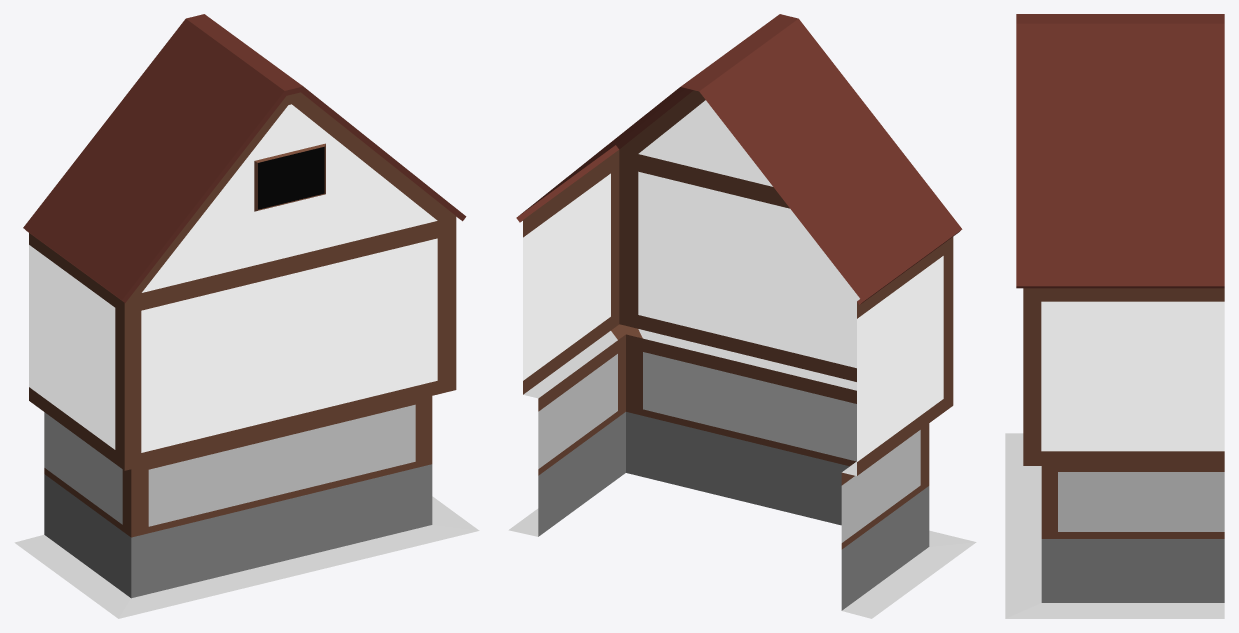
The model's file is FeudalHouse.glb.
3 views of the same model, side by side, from view 1: azimuth 30°, elevation 25°; view 2: azimuth 150°, elevation 25°; view 3: azimuth 270°, elevation 25° (orthographic). The views are drawn at different scales.
Visible parts, largest first — view 1: Plane, Cube; view 2: Plane; view 3: Plane.
Part boxes in pixels (left/top/right/bottom): Plane: left=14, top=14, right=479, bottom=618; Cube: left=254, top=143, right=325, bottom=211; Plane: left=508, top=14, right=976, bottom=618; Plane: left=1005, top=14, right=1224, bottom=618.
Bounding box in the file's own units: 8 × 10.21 × 4.
